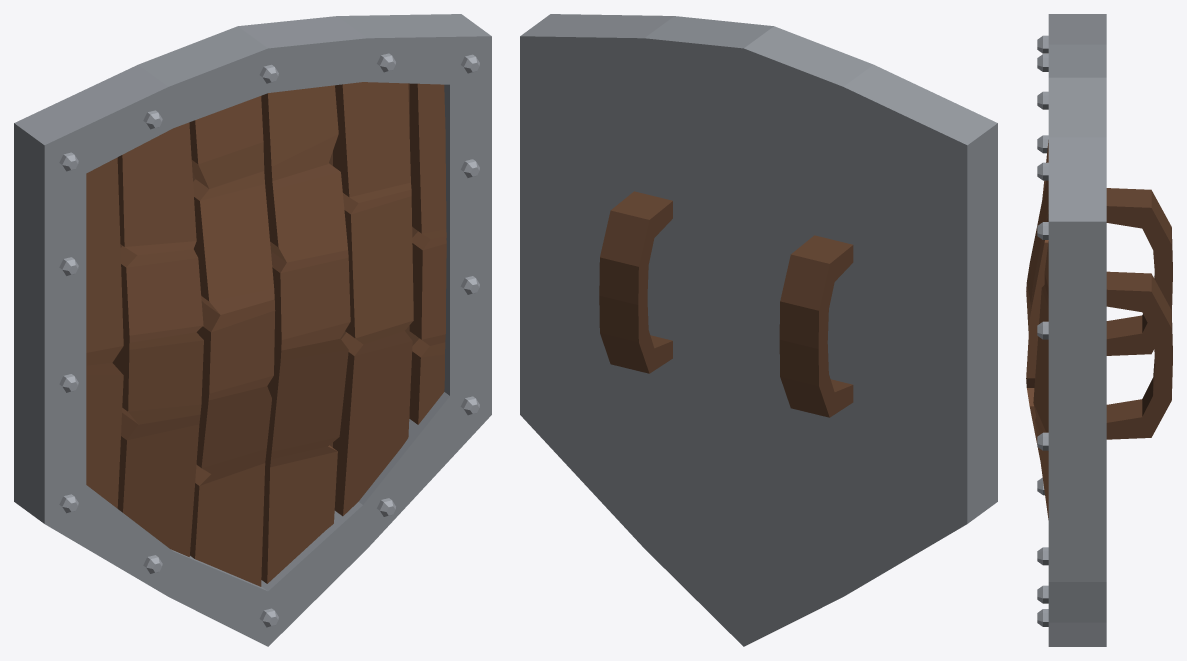
The model's file is escudo2.glb.
3 views of the same model, side by side, from view 1: azimuth 30°, elevation 25°; view 2: azimuth 150°, elevation 25°; view 3: azimuth 270°, elevation 25° (orthographic). The views are drawn at different scales.
Parts seen in each view (by area): view 1: Shield_Heater_2; view 2: Shield_Heater_2; view 3: Shield_Heater_2.
Boxes of the visible parts, left/top/right/bottom form: Shield_Heater_2: left=14, top=14, right=491, bottom=646; Shield_Heater_2: left=520, top=14, right=997, bottom=646; Shield_Heater_2: left=1026, top=14, right=1172, bottom=646.
Size of the model in its own units: 2.01 by 2.56 by 0.5987.
